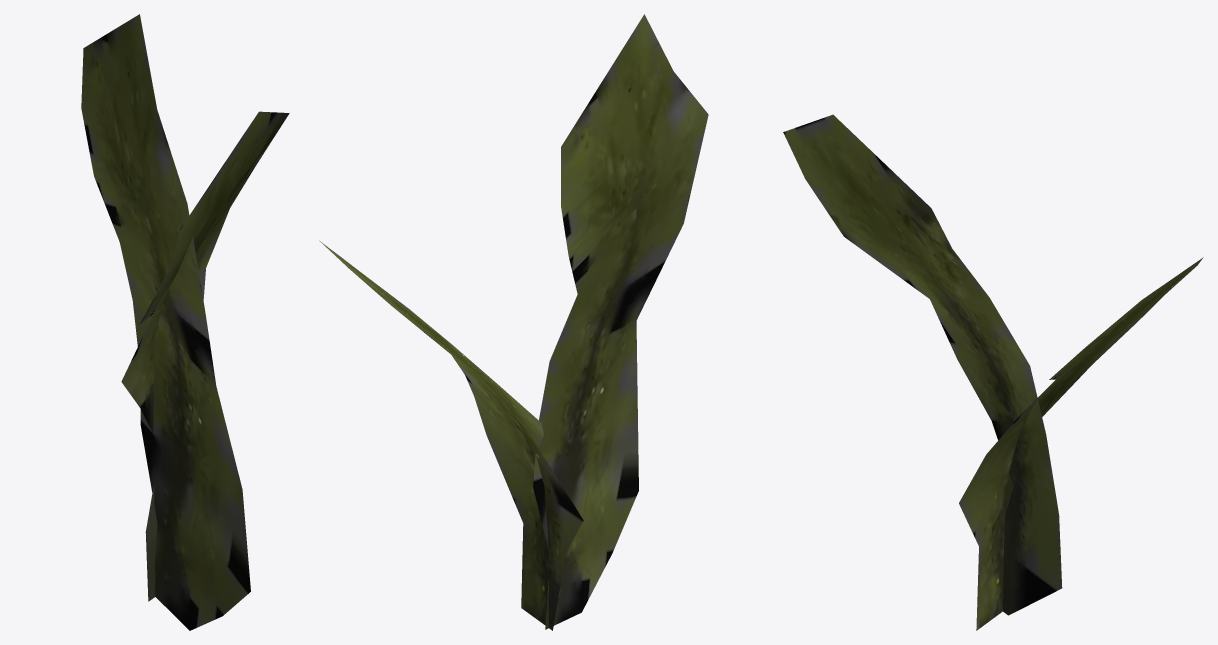
The model's file is Seaweed_A4-transformed.glb.
The picture shows the model from 3 angles, left to right: view 1: azimuth 30°, elevation 25°; view 2: azimuth 150°, elevation 25°; view 3: azimuth 270°, elevation 25°; orthographic projection. The views are drawn at different scales.
Visible parts, largest first — view 1: Seaweed_A4; view 2: Seaweed_A4; view 3: Seaweed_A4.
Boxes of the visible parts, bbox=[...] form: Seaweed_A4: bbox=[81, 14, 289, 630]; Seaweed_A4: bbox=[319, 14, 708, 630]; Seaweed_A4: bbox=[783, 114, 1203, 630].
Size of the model in its own units: 0.127 by 0.2868 by 0.1886.
Materials: 1 (1 with a texture image).
